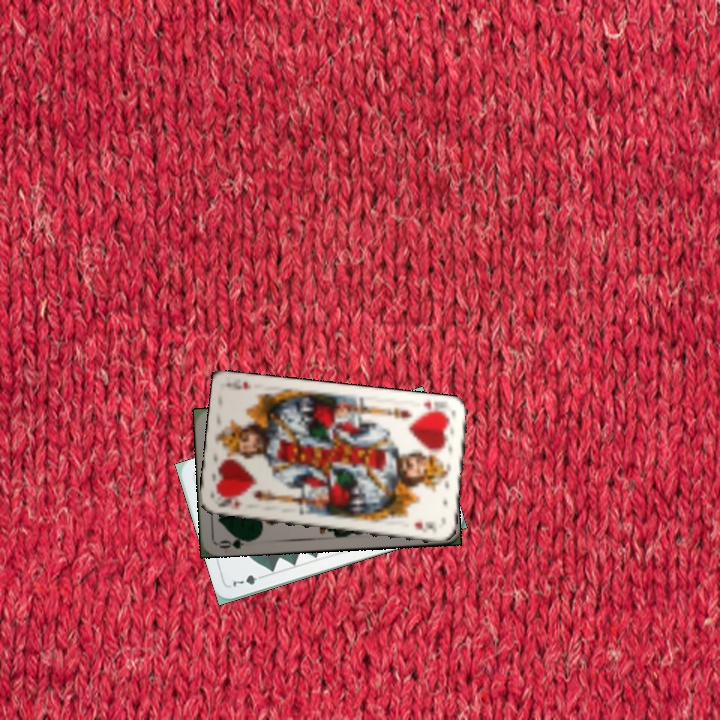G7: (227, 571, 268, 590)
GO: (215, 531, 255, 551)
HK: (417, 397, 449, 418), (213, 495, 245, 511)
